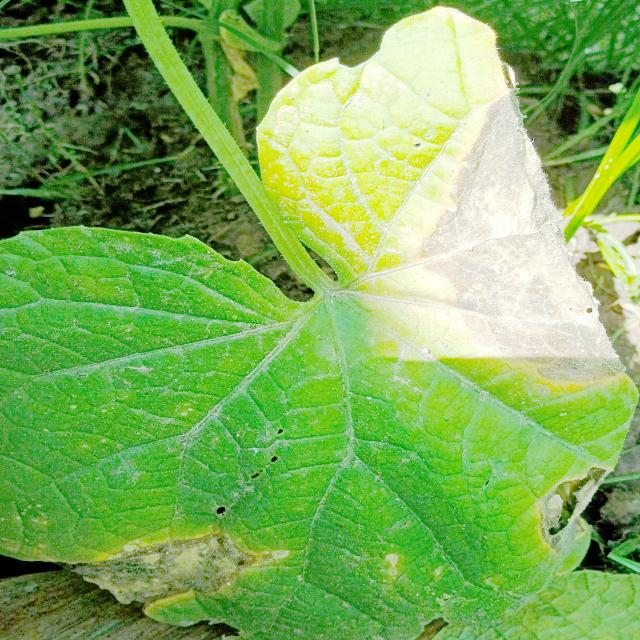Gummy-Stem-Blight: (421, 58, 627, 389)
